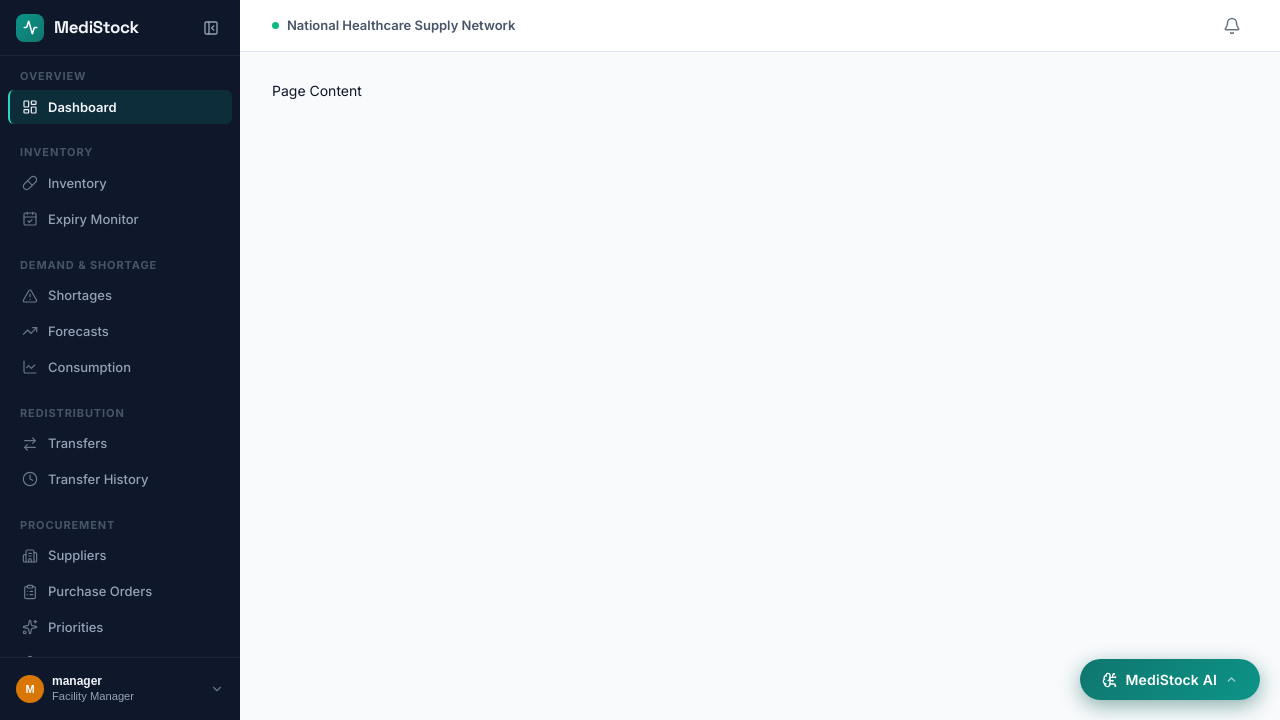
Test: DashboardLayout Global Navigation Sidebar › renders single-facility user with clear email, role, and facility
Click the button named "User menu". click: (120, 689)
box: x1=8 y1=670 x2=232 y2=708
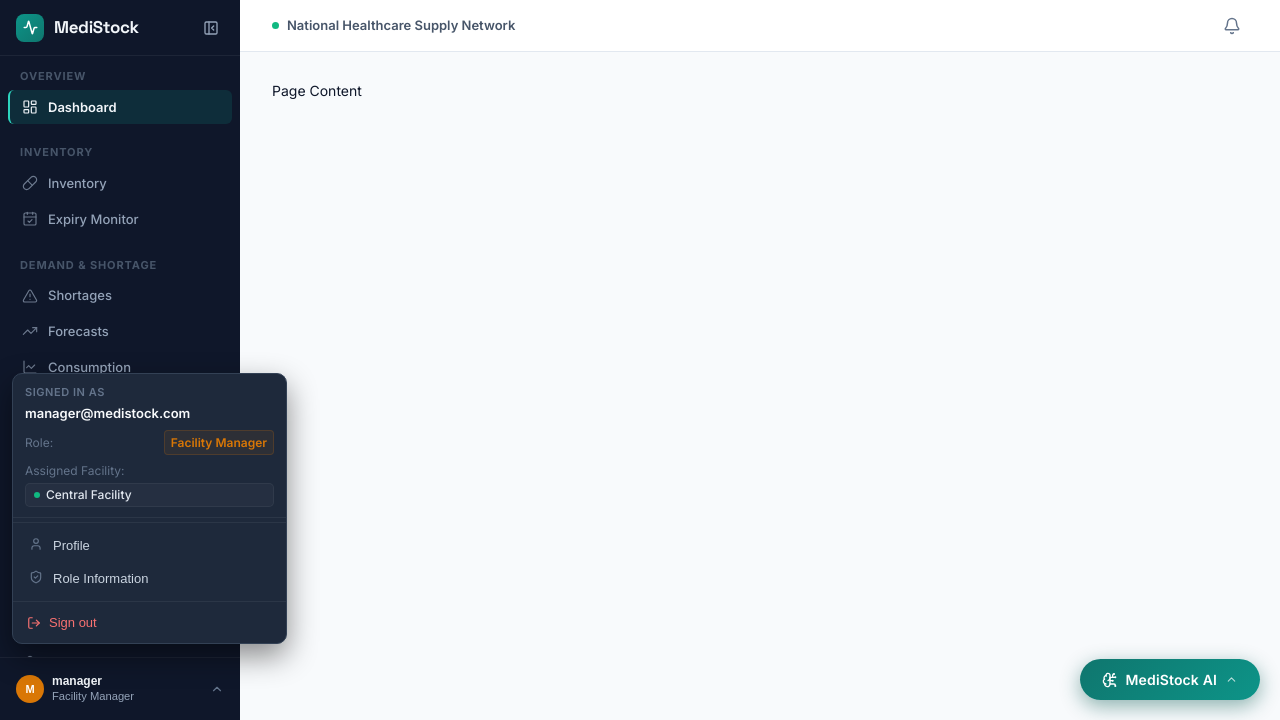
Result: the menu is shown at x1=12 y1=373 x2=287 y2=644
Result: the text "manager@medistock.com" is shown at x1=25 y1=405 x2=190 y2=421
Result: the text "Facility Manager" next to "Role:" is shown at x1=171 y1=435 x2=267 y2=450
